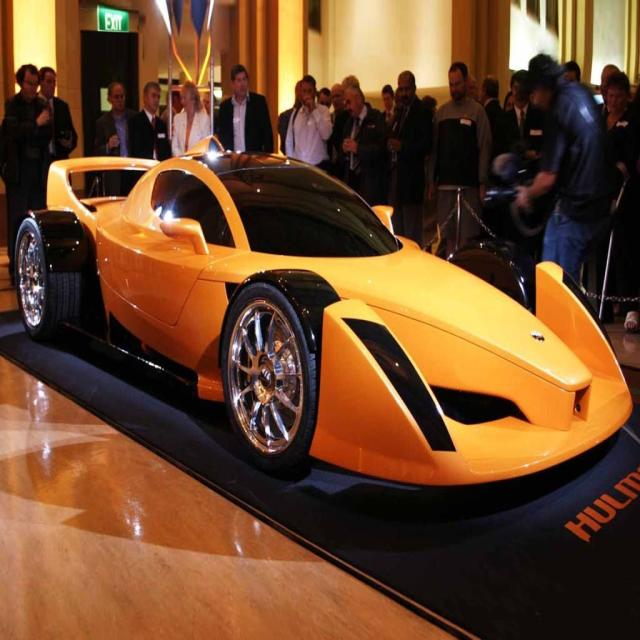car: (29, 132, 620, 506)
